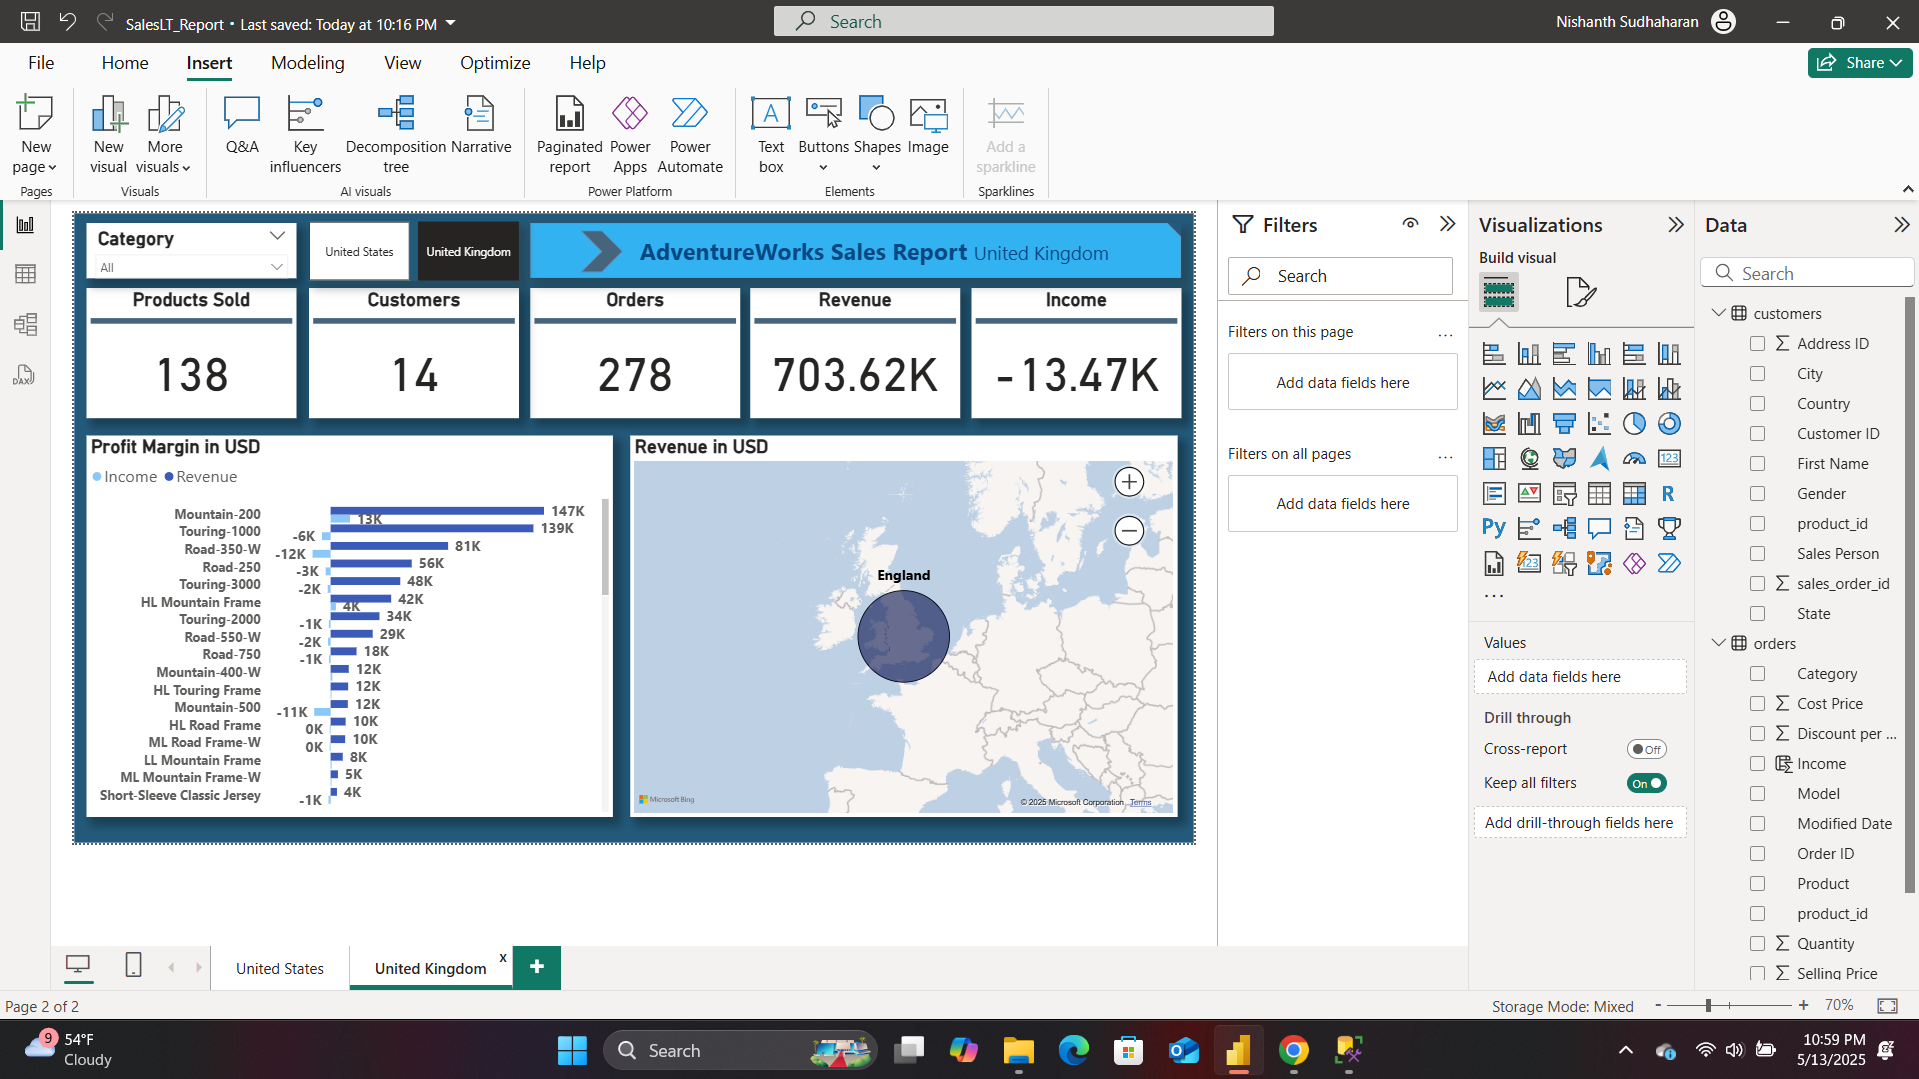

The page's visual inventory and layout, read from the dashboard file:
{"tool":"powerbi","page":{"name":"United Kingdom","canvas":[1280,720],"ordinal":1},"visuals":[{"type":"shape","box":[0,0,1280,720],"z":0},{"type":"card","title":"Products Sold","fields":{"Values":["Count(orders.Product)"]},"box":[14.3,85.7,240,148.6],"z":1000},{"type":"card","title":"Orders","fields":{"Values":["CountNonNull(customers.product_id)"]},"box":[521.4,85.7,240,148.6],"z":2000},{"type":"card","title":"Customers","fields":{"Values":["Count(customers.Customer ID)"]},"box":[268.6,85.7,240,148.6],"z":3000},{"type":"card","title":"Revenue","fields":{"Values":["Sum(orders.Total Price)"]},"box":[772.9,85.7,240,148.6],"z":4000},{"type":"card","title":"Income","fields":{"Values":["Sum(orders.Income)"]},"box":[1025.7,85.7,240,148.6],"z":5000},{"type":"slicer","fields":{"Values":["orders.Category"]},"box":[14.3,11.4,240,62.9],"z":6000},{"type":"shape","box":[521.4,11.4,744.3,62.9],"z":7000},{"type":"shape","box":[579,20,49,48.1],"z":8000},{"type":"textbox","box":[641.8,20,613.6,60],"z":9000},{"type":"clusteredBarChart","title":"Profit Margin in USD","fields":{"Y":["Sum(orders.Income)","Sum(orders.Total Price)"],"Category":["orders.Model"]},"box":[14.3,254.3,601.4,435.7],"z":10000},{"type":"map","title":"Revenue in USD","fields":{"Category":["customers.State"],"Size":["Sum(orders.Total Price)"]},"box":[635.7,254.3,625.7,435.7],"z":11000},{"type":"pageNavigator","box":[268.8,9.6,240,67.1],"z":12000}]}

Visuals, with their boxes on the page's 1280x720 design canvas (x1, y1, x2, y2). These are canvas units, not pixel positions in the 1919x1079 screenshot, which may show the page scaled, cropped or inside an application window:
shape: <region>0, 0, 1280, 720</region>
"Products Sold" card: <region>14, 86, 254, 234</region>
"Orders" card: <region>521, 86, 761, 234</region>
"Customers" card: <region>269, 86, 509, 234</region>
"Revenue" card: <region>773, 86, 1013, 234</region>
"Income" card: <region>1026, 86, 1266, 234</region>
slicer - orders.Category: <region>14, 11, 254, 74</region>
shape: <region>521, 11, 1266, 74</region>
shape: <region>579, 20, 628, 68</region>
textbox: <region>642, 20, 1255, 80</region>
"Profit Margin in USD" clusteredBarChart: <region>14, 254, 616, 690</region>
"Revenue in USD" map: <region>636, 254, 1261, 690</region>
pageNavigator: <region>269, 10, 509, 77</region>
